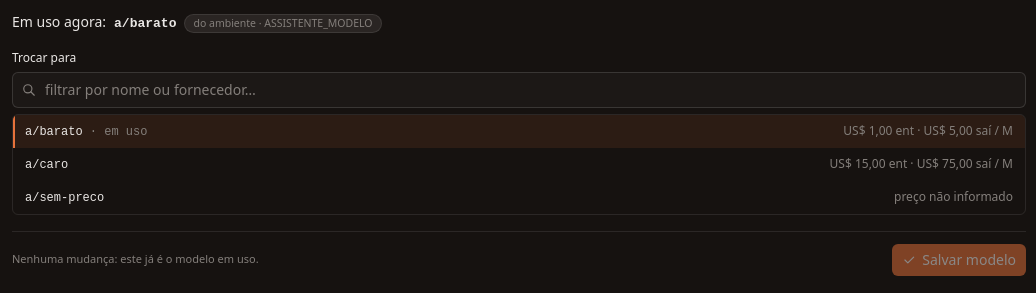
Test: o seletor do núcleo › escolher não salva
The image size is (1036, 293).
Click the option "a/caro US$ 15,00 ent · US$ 75,00 saí / M" at (47, 165), box x1=13 y1=148 x2=1025 y2=181
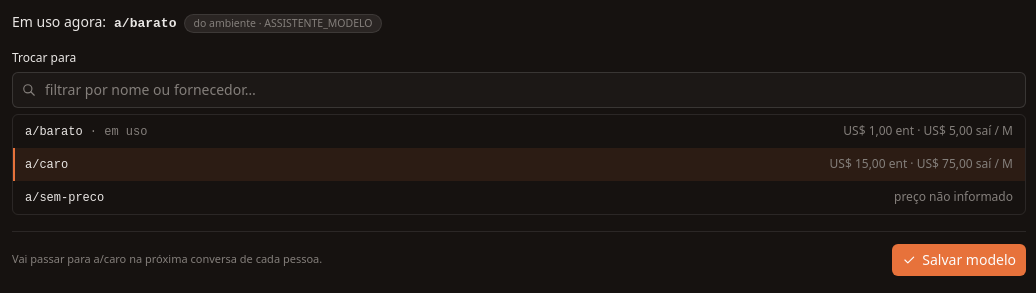
Expected: the text "Vai passar para a/caro na próxima conversa de cada pessoa." is shown, x1=12 y1=251 x2=322 y2=268
